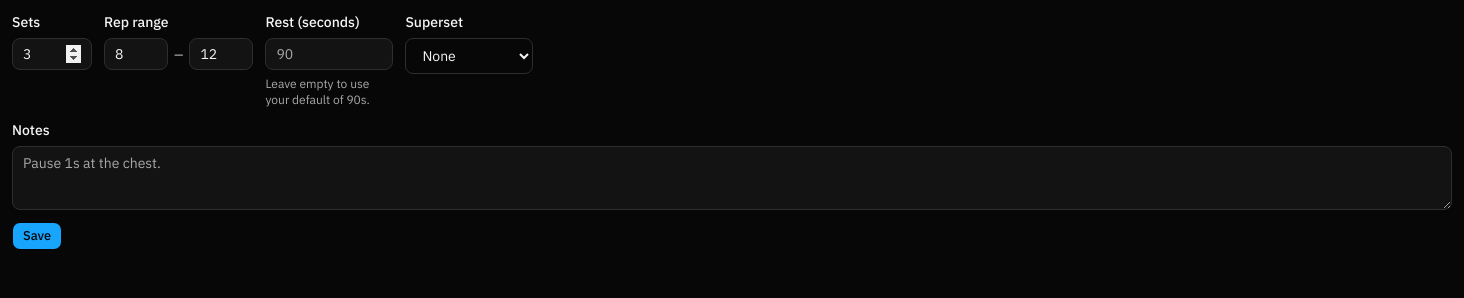
Test: PrescriptionForm › shows a generic translated error for any other failure
Step 1. Click the button "Save" → (37, 236), box [12,222,62,250]
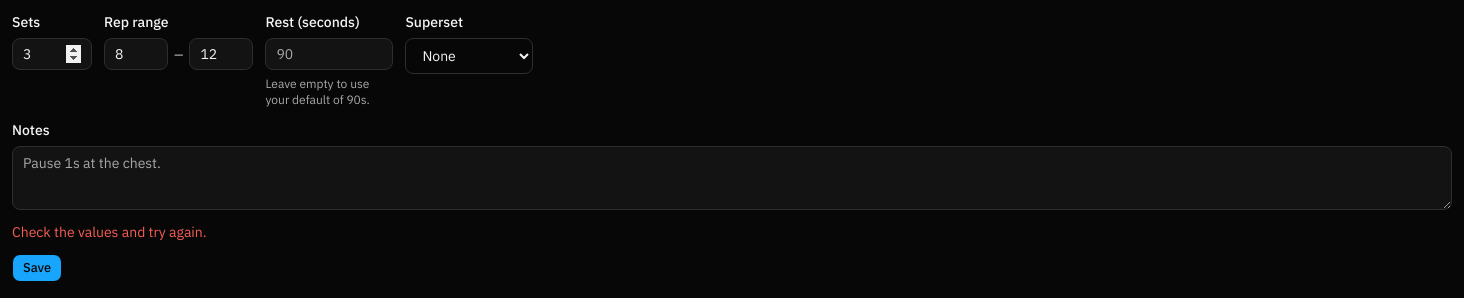
Check: the text "Check the values and try again." is shown, box [12,223,207,241]
